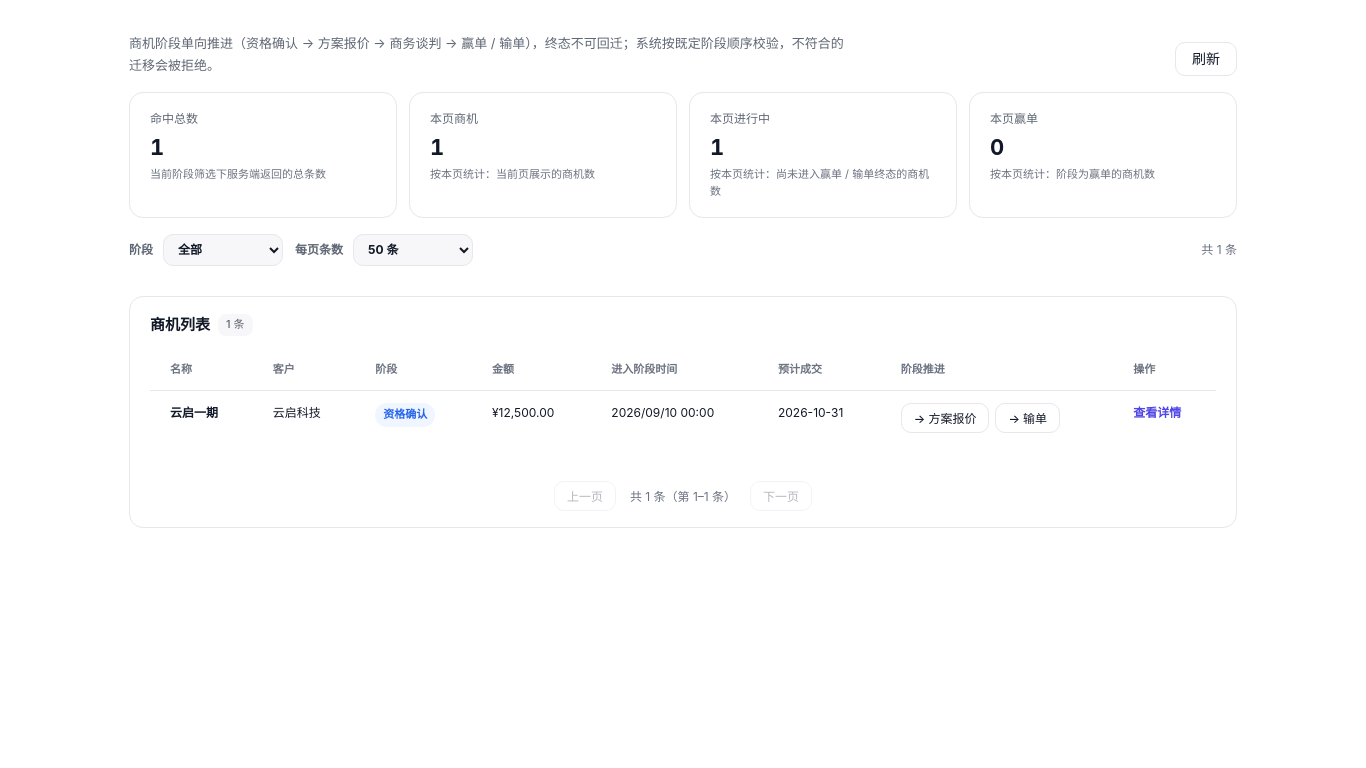
Test: CrmOpportunitiesPage › advances the stage through the dedicated endpoint and updates the row
The width and height of the screenshot is (1366, 768).
Click the button with aria-label "将「云启一期」推进到 方案报价" at (945, 418), box [901,403,990,433]
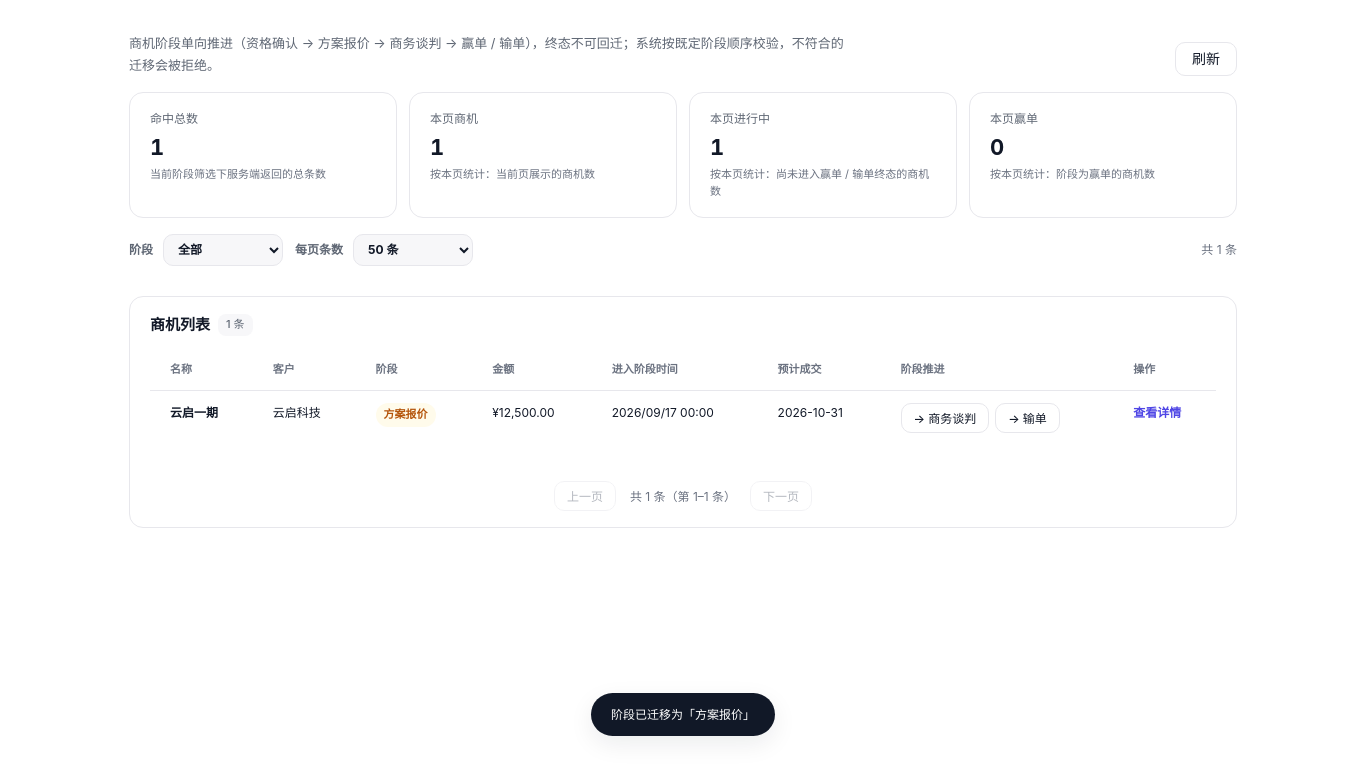
Expected: the text "阶段已迁移为「方案报价」" is shown, [611,705,755,724]
Expected: the text "方案报价" is shown, [376,403,436,427]
